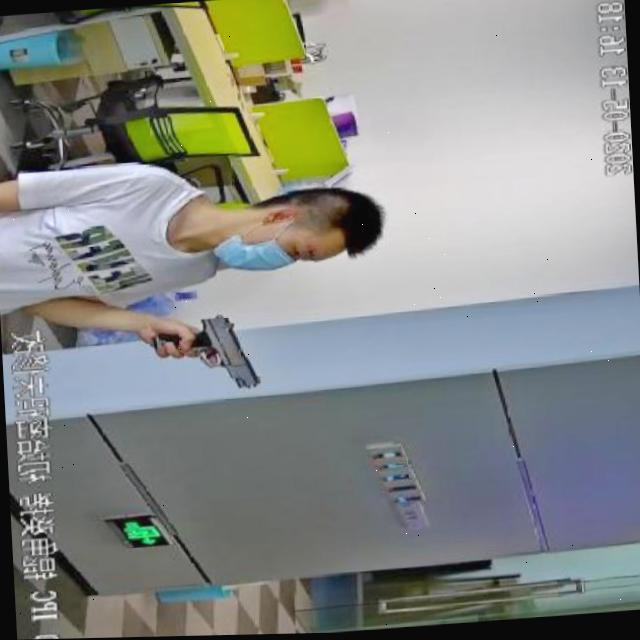gun: (144, 296, 282, 413)
